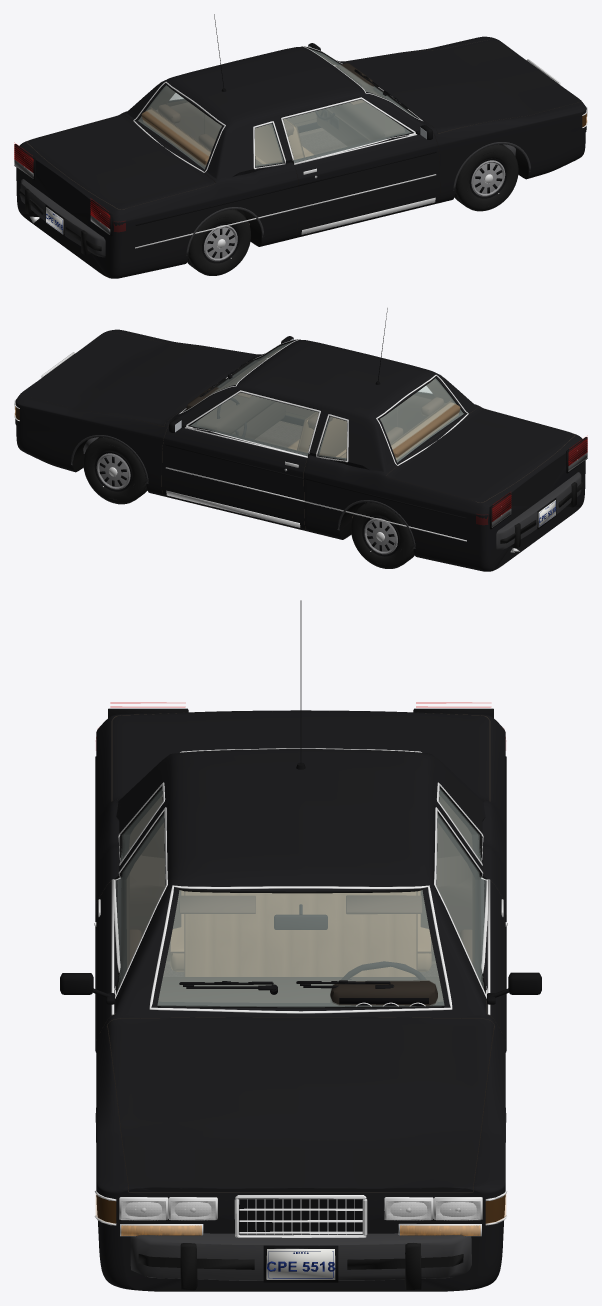
Rendered from coupe84_lod1.glb.
The picture shows the model from 3 angles, top to bottom: view 1: azimuth 30°, elevation 25°; view 2: azimuth 150°, elevation 25°; view 3: azimuth 270°, elevation 25°; orthographic projection. The views are drawn at different scales.
Visible parts, largest first — view 1: Body, Hood, Door_FR, Trunk, Interior, Glass, Glass_FR, Wheel_FR_mesh, Wheel_RR_mesh, Trim_FR, Bumper_R, Trim (+3 smaller); view 2: Body, Hood, Door_FL, Trunk, Interior, Glass, Glass_FL, Wheel_FL_mesh, Wheel_RL_mesh, Trim_FL, Bumper_R, Trim (+3 smaller); view 3: Body, Hood, Glass, Interior, Trunk, Ends, Bumper_F, Glass_FR, Glass_FL, Door_FL, Door_FR, Lamps_Head (+5 smaller).
Part boxes in pixels (x1,y1,x2,y2): Body: (16,36,586,278); Hood: (343,38,581,133); Door_FR: (280,96,439,237); Trunk: (27,114,215,209); Interior: (141,63,409,167); Glass: (133,46,422,172); Glass_FR: (281,97,412,163); Wheel_FR_mesh: (454,144,518,211); Wheel_RR_mesh: (187,209,250,275); Trim_FR: (281,97,436,234); Bumper_R: (19,179,105,257); Trim: (135,14,530,255); Body: (15,329,585,571); Hood: (20,331,258,426); Door_FL: (162,389,321,530); Trunk: (386,407,574,502); Interior: (186,363,460,460); Glass: (179,339,468,465); Glass_FL: (189,390,320,456); Wheel_FL_mesh: (83,437,147,504); Wheel_RL_mesh: (351,502,414,568); Trim_FL: (165,390,320,527); Bumper_R: (496,472,582,550); Trim: (71,308,466,548); Body: (96,710,505,1291); Hood: (107,1017,494,1191); Glass: (121,748,480,1013); Interior: (158,890,443,1006); Trunk: (112,711,489,801); Ends: (94,708,507,1282); Bumper_F: (130,1233,471,1290); Glass_FR: (114,814,165,987); Glass_FL: (436,814,487,987); Door_FL: (433,806,505,1039); Door_FR: (96,806,168,1039); Lamps_Head: (121,1202,480,1220).
Size of the model in its own units: 5.12 by 2.15 by 2.14.
Materials: 34 (5 with a texture image).
